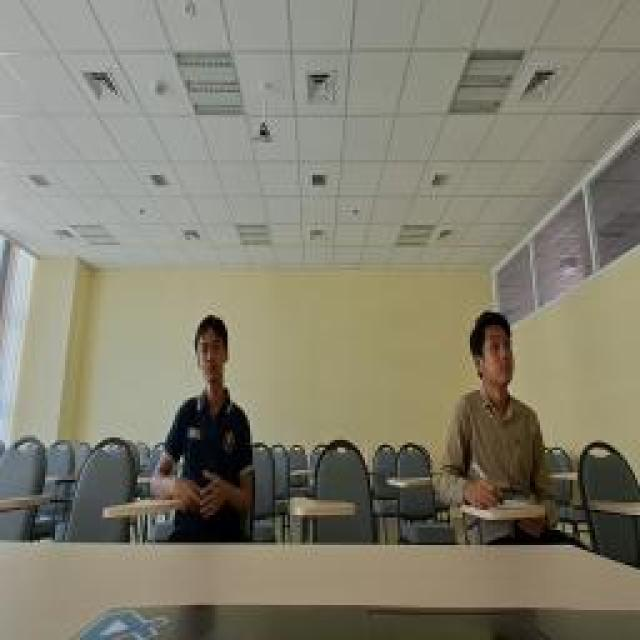study: (438, 300, 552, 510), (150, 307, 255, 495)
